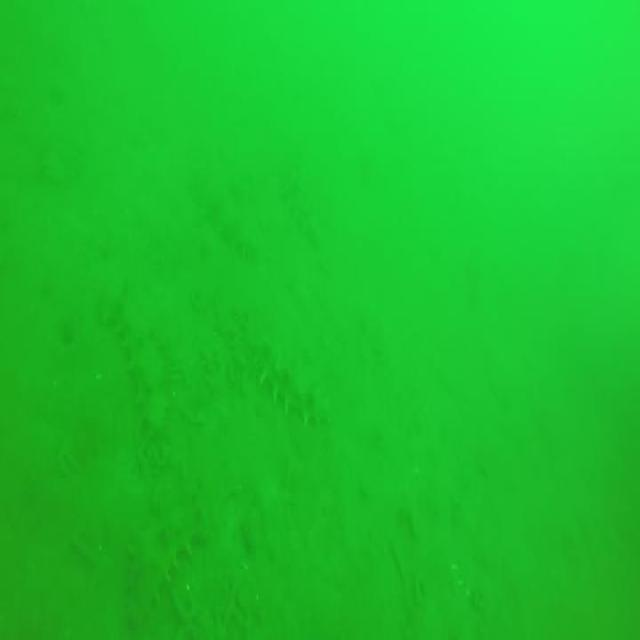holothurian: (97, 284, 178, 449), (120, 496, 208, 640), (245, 332, 323, 419), (192, 178, 261, 268), (276, 171, 326, 245)
